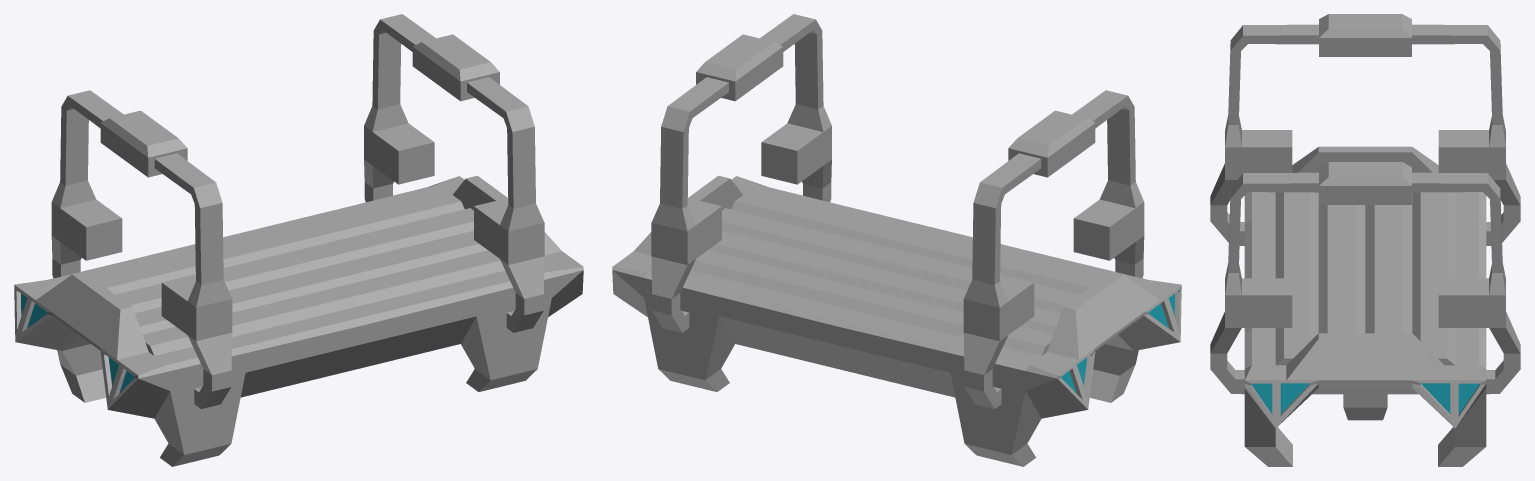
File: ContainerCareer.FBX
3 renders of one model, left to right at view 1: azimuth 30°, elevation 25°; view 2: azimuth 150°, elevation 25°; view 3: azimuth 270°, elevation 25°, orthographic. The views are drawn at different scales.
Parts seen in each view (by area): view 1: pCube14; view 2: pCube14; view 3: pCube14.
Part boxes in pixels (x1,y1,x2,y2): pCube14: (14,14,583,466); pCube14: (612,14,1181,466); pCube14: (1210,14,1520,466).
Bounding box in the file's own units: 1077 × 643 × 627.
